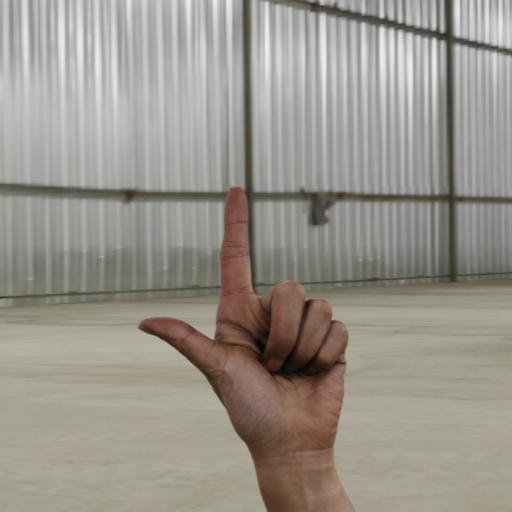L: (128, 168, 362, 472)
